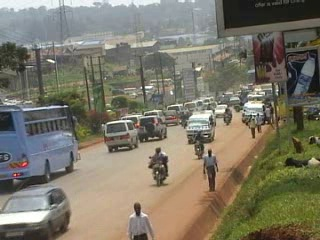Car: (0, 183, 75, 239), (134, 115, 169, 144), (161, 108, 179, 127), (233, 96, 251, 111), (213, 101, 228, 119), (226, 95, 240, 106)
Motorcycle: (146, 144, 170, 187), (191, 130, 208, 159), (220, 105, 233, 125), (179, 108, 189, 129)
